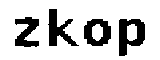k: (46, 7, 79, 50)
o: (85, 15, 115, 48)
p: (115, 16, 149, 60)
z: (11, 17, 43, 52)
